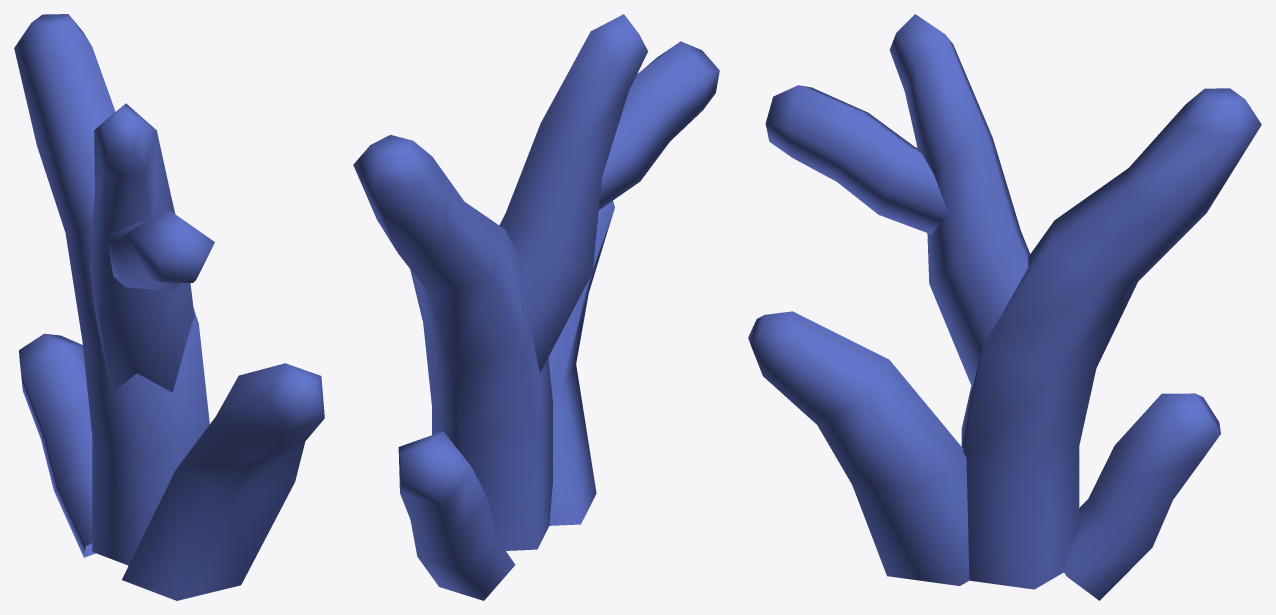
The model's file is Sunken Tomb Glowy Coral 1.fbx.
3 renders of one model, left to right at view 1: azimuth 30°, elevation 25°; view 2: azimuth 150°, elevation 25°; view 3: azimuth 270°, elevation 25°, orthographic. The views are drawn at different scales.
Parts seen in each view (by area): view 1: Glowy Coral 1; view 2: Glowy Coral 1; view 3: Glowy Coral 1.
Part boxes in pixels (box(x1,y1,x2,y2)): Glowy Coral 1: box(14, 14, 324, 600); Glowy Coral 1: box(353, 14, 719, 600); Glowy Coral 1: box(748, 14, 1261, 600).
Size of the model in its own units: 195 by 502 by 430.
